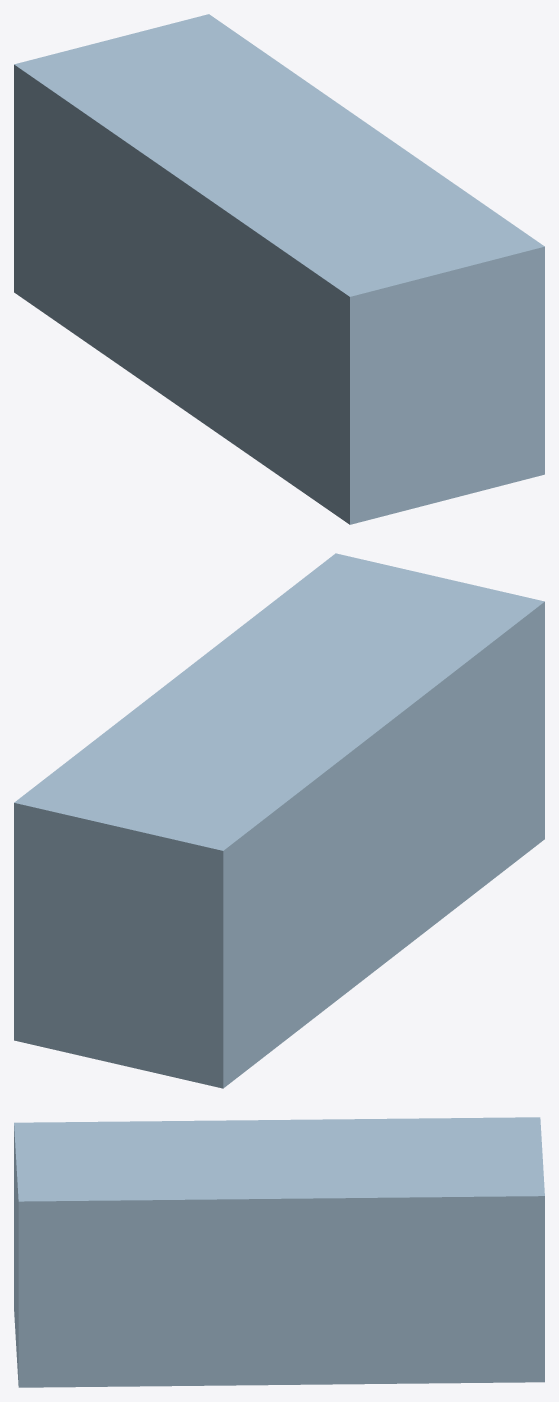
The model's file is osm_way_224940881.glb.
3 renders of one model, top to bottom at view 1: azimuth 30°, elevation 25°; view 2: azimuth 150°, elevation 25°; view 3: azimuth 270°, elevation 25°, orthographic. The views are drawn at different scales.
Parts seen in each view (by area): view 1: osm_way_224940881; view 2: osm_way_224940881; view 3: osm_way_224940881.
Part boxes in pixels (x1,y1,x2,y2): osm_way_224940881: (14,14,544,524); osm_way_224940881: (14,553,544,1088); osm_way_224940881: (14,1117,544,1387).
Size of the model in its own units: 6.99 by 7.2 by 18.61.
